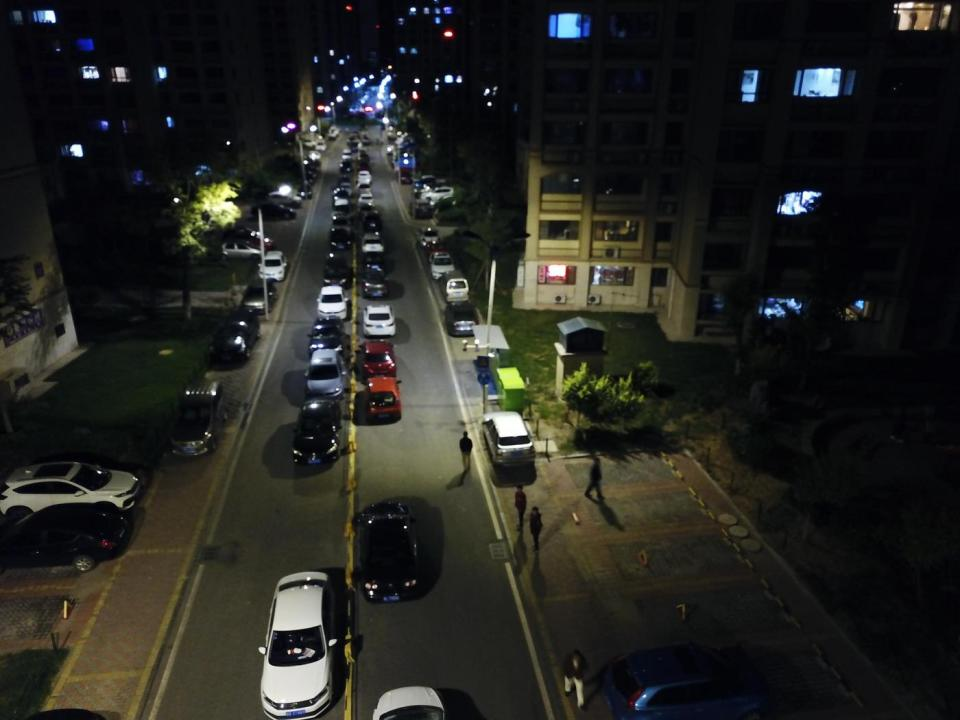car: (596, 640, 776, 720), (258, 570, 339, 720), (0, 502, 136, 572), (1, 459, 144, 512), (355, 499, 418, 604), (170, 379, 228, 459), (292, 392, 342, 468), (481, 410, 536, 468), (210, 308, 264, 361), (364, 372, 407, 426), (303, 348, 348, 399), (356, 338, 398, 378), (241, 277, 279, 315), (306, 313, 343, 352), (442, 300, 482, 336), (362, 304, 398, 339), (318, 283, 349, 322), (322, 249, 352, 288), (258, 248, 290, 283), (230, 225, 272, 251), (219, 239, 265, 261), (250, 201, 297, 222), (419, 186, 459, 206), (428, 252, 457, 278), (416, 184, 459, 201), (328, 222, 352, 251), (360, 232, 387, 256), (265, 190, 303, 207), (363, 271, 386, 299), (415, 224, 439, 248), (409, 197, 433, 219), (363, 251, 385, 273), (412, 177, 445, 190), (331, 190, 351, 210), (424, 240, 446, 258), (330, 207, 352, 225), (338, 174, 356, 196), (363, 211, 382, 230), (356, 202, 378, 218), (357, 190, 375, 207), (397, 171, 414, 186), (356, 160, 374, 174), (298, 183, 314, 198), (357, 182, 373, 197), (338, 158, 353, 172), (358, 170, 374, 182), (341, 147, 353, 160)
van: (438, 269, 469, 303)
